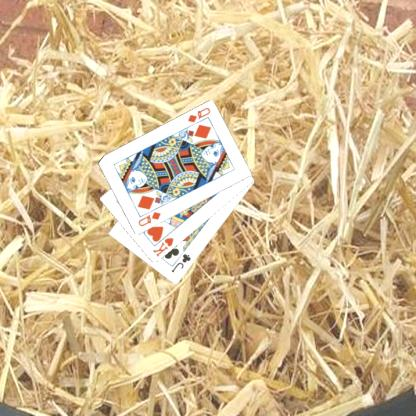JC: (168, 251, 192, 274)
KH: (150, 236, 175, 258)
QD: (135, 209, 162, 228), (185, 105, 211, 124)
